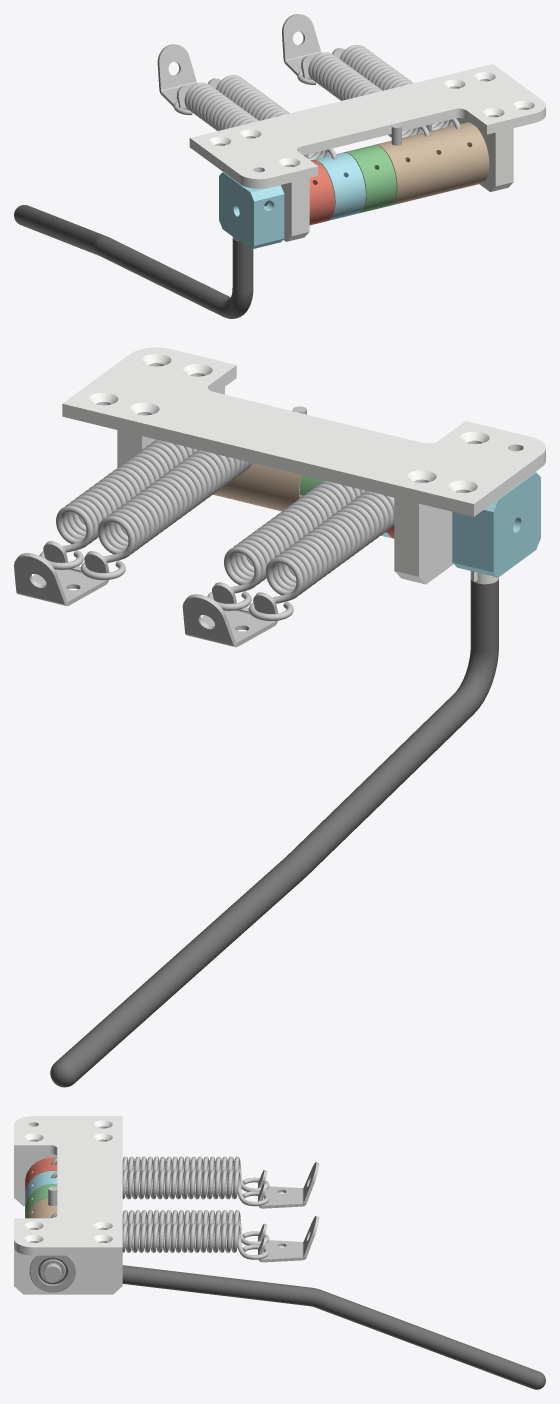
File: Tremolo_Bridge.glb
3 renders of one model, top to bottom at view 1: azimuth 30°, elevation 25°; view 2: azimuth 150°, elevation 25°; view 3: azimuth 270°, elevation 25°, orthographic. The views are drawn at different scales.
Visible parts, largest first — view 1: Body1 (×14), Body2; view 2: Body1 (×11); view 3: Body1 (×14), Body2.
Part boxes in pixels (bbox=[...]): Body1 (×14): bbox=[14, 14, 545, 318]; Body2: bbox=[313, 152, 365, 220]; Body1 (×11): bbox=[14, 347, 545, 1087]; Body1 (×14): bbox=[14, 1116, 545, 1389]; Body2: bbox=[25, 1171, 57, 1205].
Size of the model in its own units: 0.1 by 0.0865 by 0.1713.
